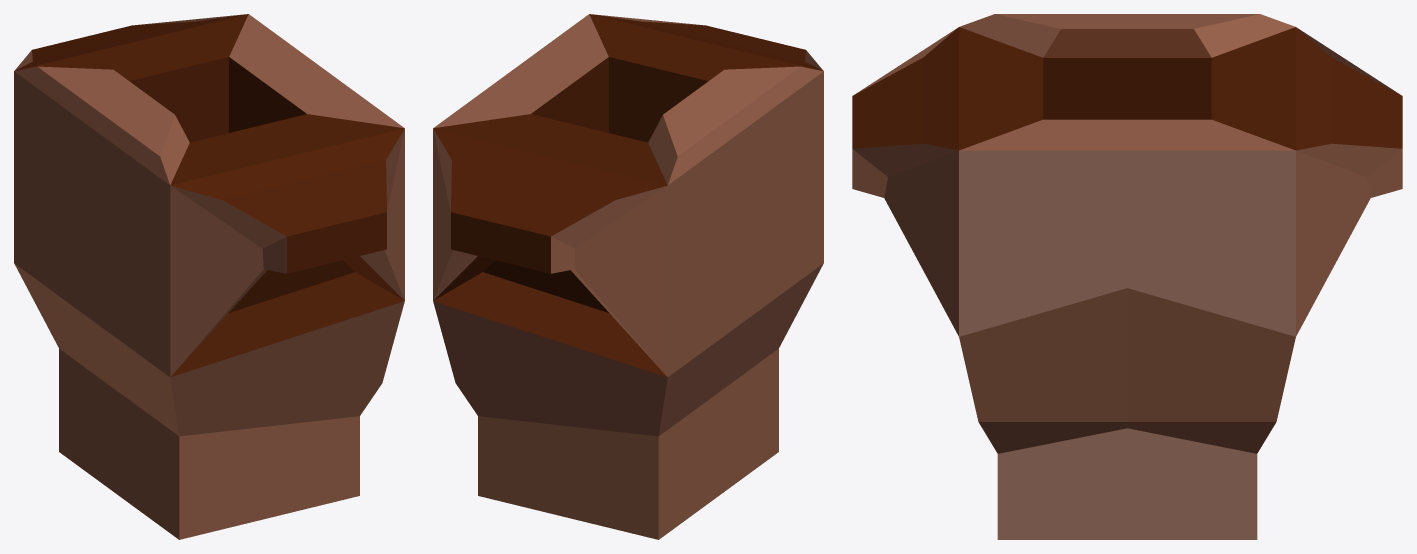
File: thick_leather.glb
3 renders of one model, left to right at view 1: azimuth 30°, elevation 25°; view 2: azimuth 150°, elevation 25°; view 3: azimuth 270°, elevation 25°, orthographic. The views are drawn at different scales.
Parts seen in each view (by area): view 1: Cube; view 2: Cube; view 3: Cube.
Boxes of the visible parts, box(x1,y1,x2,y2) form: Cube: box(14, 14, 404, 539); Cube: box(433, 14, 823, 539); Cube: box(852, 14, 1402, 539).
Size of the model in its own units: 1.28 by 2.07 by 2.4.
1 material, 1 textured.
